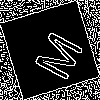M: (25, 25, 85, 83)
